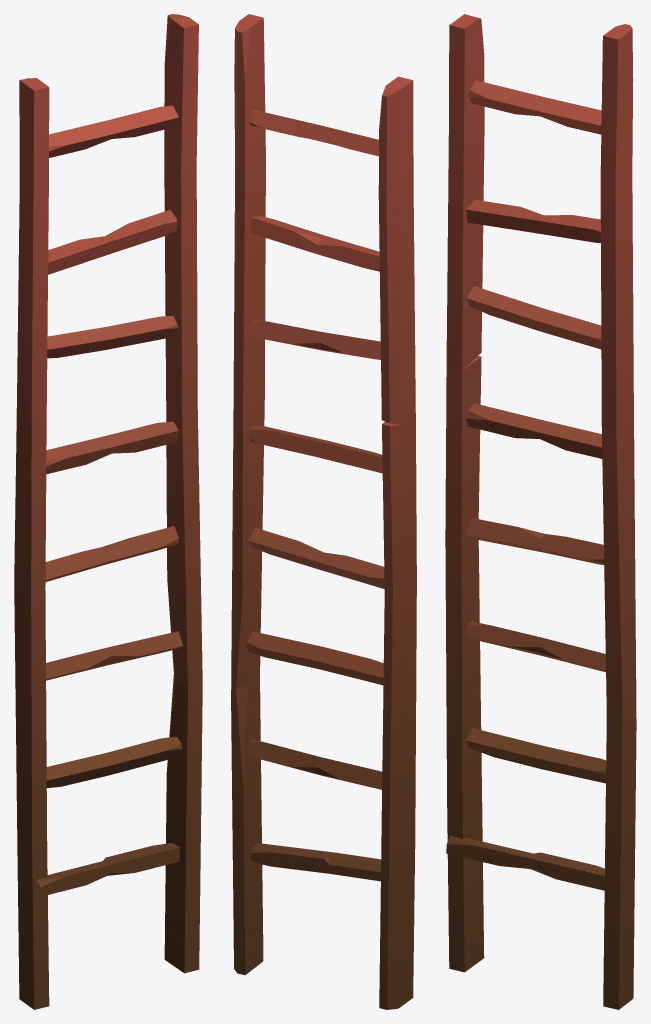
3 views of the same model, side by side, from view 1: azimuth 30°, elevation 25°; view 2: azimuth 150°, elevation 25°; view 3: azimuth 330°, elevation 25° (orthographic). The views are drawn at different scales.
Visible parts, largest first — view 1: Ladder; view 2: Ladder; view 3: Ladder.
Part boxes in pixels (bbox=[...]): Ladder: bbox=[14, 14, 202, 1009]; Ladder: bbox=[231, 14, 416, 1009]; Ladder: bbox=[445, 14, 636, 1009].
Bounding box in the file's own units: 0.7505 × 3.89 × 0.1768.
1 material, 1 textured.
